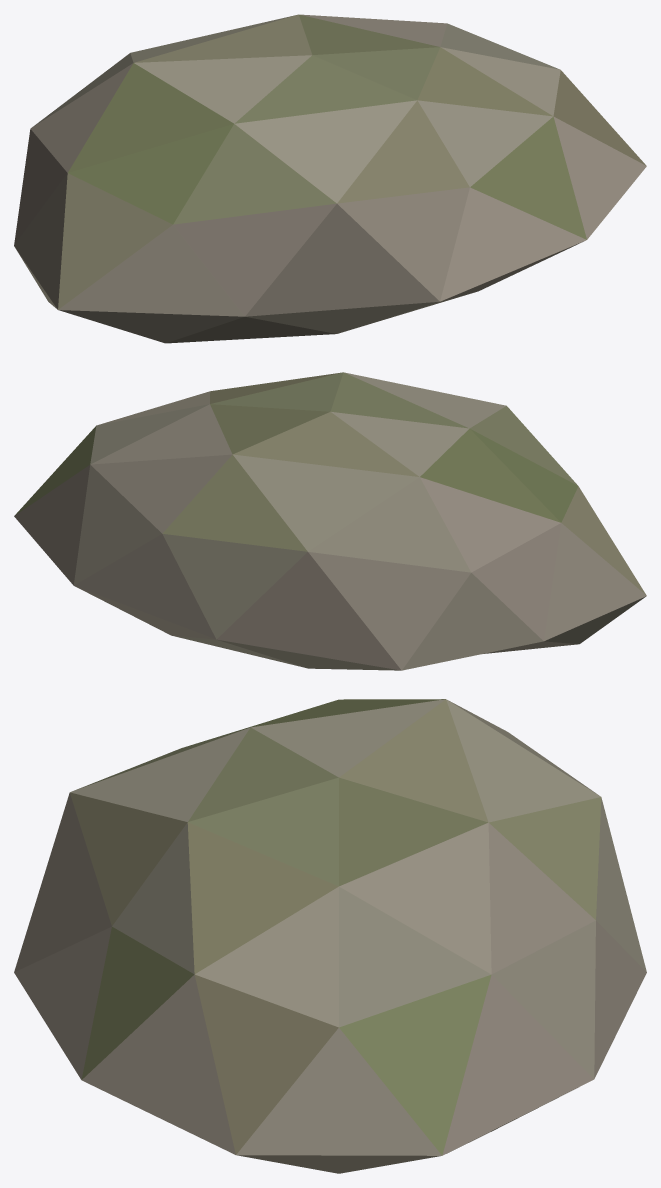
Rendered from env_lime_a.glb.
The picture shows the model from 3 angles, top to bottom: view 1: azimuth 30°, elevation 25°; view 2: azimuth 150°, elevation 25°; view 3: azimuth 270°, elevation 25°; orthographic projection. The views are drawn at different scales.
Parts seen in each view (by area): view 1: env_lime_a; view 2: env_lime_a; view 3: env_lime_a.
Boxes of the visible parts, bbox=[...] form: env_lime_a: bbox=[14, 14, 646, 343]; env_lime_a: bbox=[14, 372, 646, 670]; env_lime_a: bbox=[14, 699, 646, 1173].
Size of the model in its own units: 3.21 by 1.1 by 2.34.
